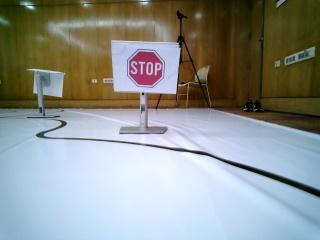stop: (111, 46, 184, 90)
